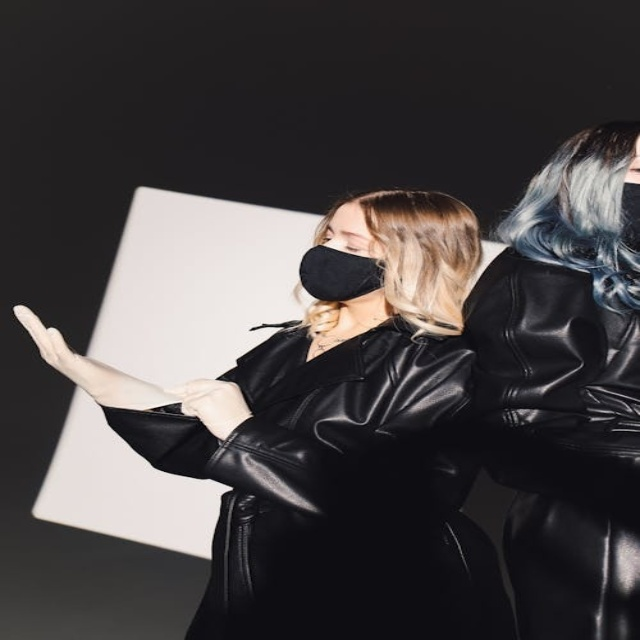Guantes: (12, 303, 187, 413), (175, 378, 253, 438)
Mascara: (298, 244, 387, 302), (618, 184, 640, 251)
Sin_gafas: (321, 221, 378, 257)
